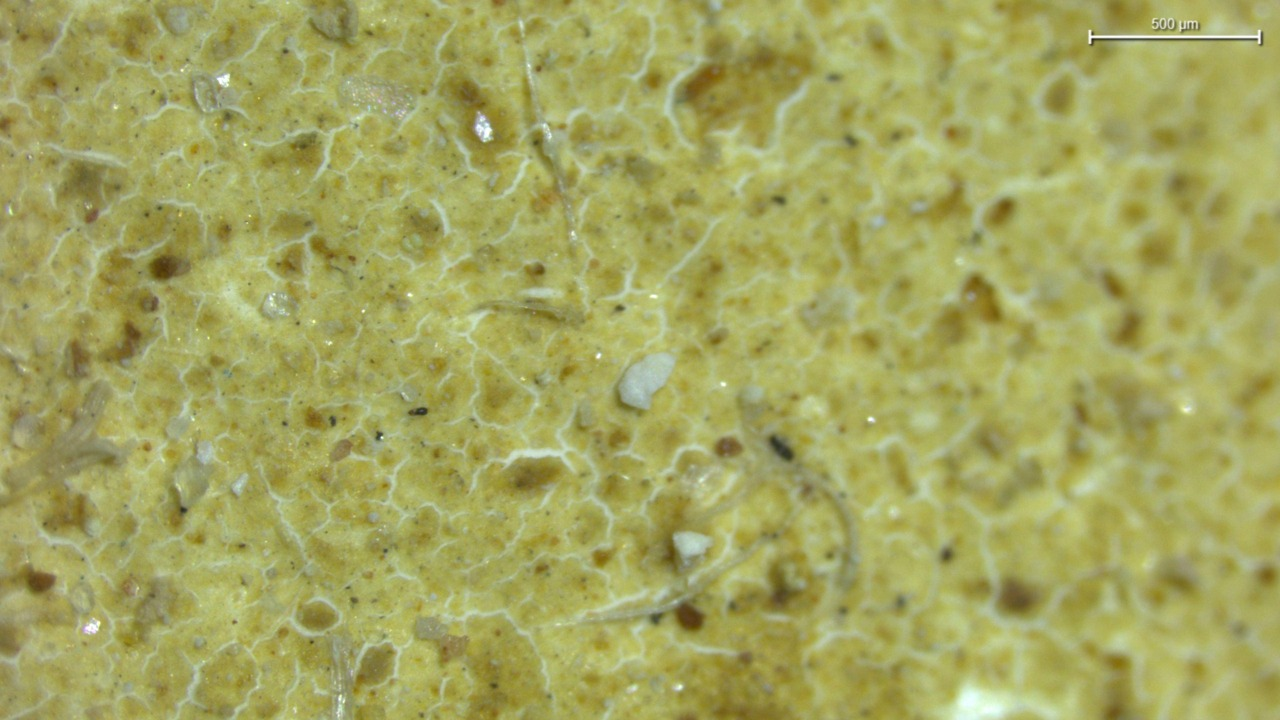microplastic_fragment: (617, 353, 675, 410)
